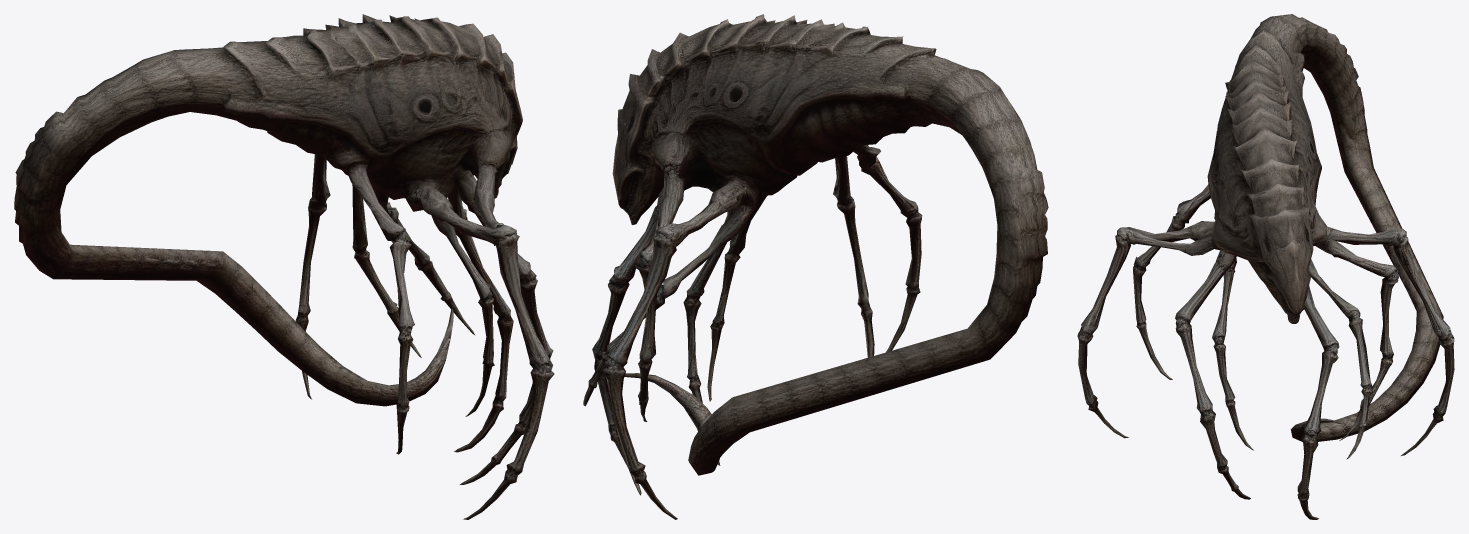
The model's file is alien.glb.
3 views of the same model, side by side, from view 1: azimuth 30°, elevation 25°; view 2: azimuth 150°, elevation 25°; view 3: azimuth 270°, elevation 25° (orthographic). The views are drawn at different scales.
Parts seen in each view (by area): view 1: tripo_node_3762f955-3c5f-48fe-a313-79b09ed3a740; view 2: tripo_node_3762f955-3c5f-48fe-a313-79b09ed3a740; view 3: tripo_node_3762f955-3c5f-48fe-a313-79b09ed3a740.
Part boxes in pixels (bbox=[...]): tripo_node_3762f955-3c5f-48fe-a313-79b09ed3a740: bbox=[14, 14, 554, 519]; tripo_node_3762f955-3c5f-48fe-a313-79b09ed3a740: bbox=[583, 14, 1048, 519]; tripo_node_3762f955-3c5f-48fe-a313-79b09ed3a740: bbox=[1077, 14, 1454, 519].
Size of the model in its own units: 0.998 by 0.998 by 0.8769.
1 material, 1 textured.
